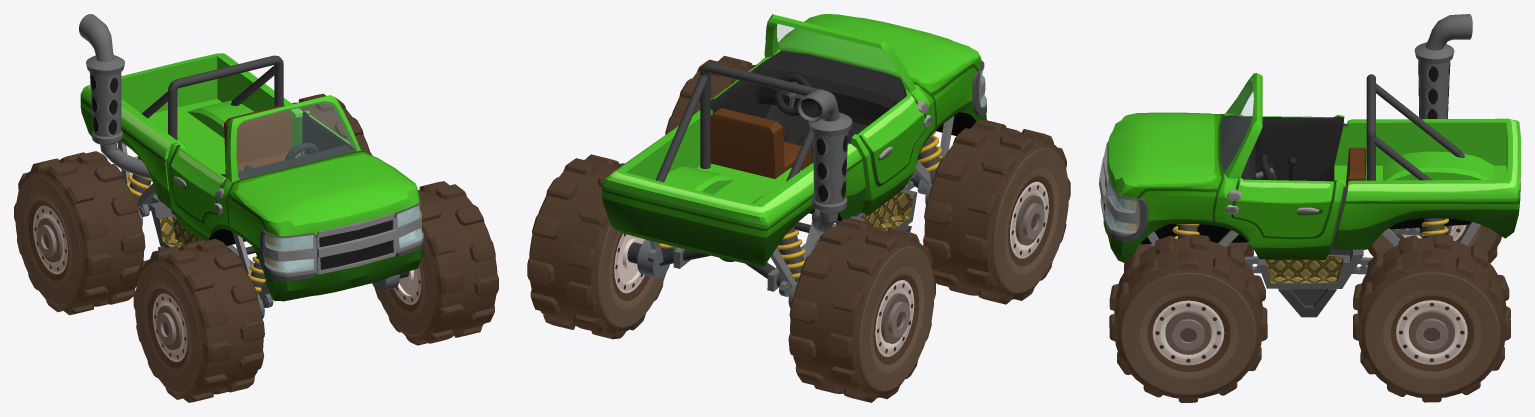
Rendered from car.gltf.
3 renders of one model, left to right at view 1: azimuth 30°, elevation 25°; view 2: azimuth 150°, elevation 25°; view 3: azimuth 270°, elevation 25°, orthographic. The views are drawn at different scales.
Visible parts, largest first — view 1: HCR2_MT_Body_20, FrontRightWheel, BackRightWheel, FrontLeftWheel, HCR2_MT_Window_0, HCR2_MT_Exhaust_10, HCR2_MT_Lights_9, HCR2_MT_Grl_7, HCR2_MT_Seat_5, HCR2_MT_Cage_13, HCR2_MT_Interior_6, HCR2_MT_Lights_Cover_8 (+4 smaller); view 2: HCR2_MT_Body_20, BackRightWheel, FrontRightWheel, BackLeftWheel, HCR2_MT_Interior_6, HCR2_MT_Exhaust_10, HCR2_MT_Seat_5, HCR2_MT_Cage_13, HCR2_MT_Susp_Rear_1, HCR2_MT_Window_0, HCR2_MT_Details_11, FrontLeftWheel (+5 smaller); view 3: HCR2_MT_Body_20, FrontLeftWheel, BackLeftWheel, HCR2_MT_Interior_6, HCR2_MT_Details_11, HCR2_MT_Exhaust_10, HCR2_MT_Cage_13, HCR2_MT_Lights_9, HCR2_MT_Window_0, BackRightWheel, HCR2_MT_Chassis_12, HCR2_MT_Susp_Rear_1 (+5 smaller).
Boxes of the visible parts, bbox=[...] form: HCR2_MT_Body_20: bbox=[80, 53, 423, 301]; FrontRightWheel: bbox=[133, 238, 264, 402]; BackRightWheel: bbox=[14, 151, 145, 315]; FrontLeftWheel: bbox=[374, 181, 498, 345]; HCR2_MT_Window_0: bbox=[236, 101, 356, 179]; HCR2_MT_Exhaust_10: bbox=[79, 14, 151, 178]; HCR2_MT_Lights_9: bbox=[260, 195, 423, 281]; HCR2_MT_Grl_7: bbox=[316, 213, 396, 274]; HCR2_MT_Seat_5: bbox=[224, 106, 296, 171]; HCR2_MT_Cage_13: bbox=[142, 55, 283, 140]; HCR2_MT_Interior_6: bbox=[221, 111, 356, 179]; HCR2_MT_Lights_Cover_8: bbox=[264, 205, 422, 272]; HCR2_MT_Body_20: bbox=[602, 14, 986, 266]; BackRightWheel: bbox=[788, 218, 935, 402]; FrontRightWheel: bbox=[923, 120, 1070, 304]; BackLeftWheel: bbox=[527, 154, 666, 339]; HCR2_MT_Interior_6: bbox=[710, 51, 906, 163]; HCR2_MT_Exhaust_10: bbox=[797, 89, 852, 232]; HCR2_MT_Seat_5: bbox=[710, 108, 811, 178]; HCR2_MT_Cage_13: bbox=[656, 63, 818, 182]; HCR2_MT_Susp_Rear_1: bbox=[627, 209, 818, 308]; HCR2_MT_Window_0: bbox=[777, 24, 899, 77]; HCR2_MT_Details_11: bbox=[794, 101, 932, 232]; FrontLeftWheel: bbox=[665, 55, 755, 134]; HCR2_MT_Body_20: bbox=[1103, 73, 1520, 263]; FrontLeftWheel: bbox=[1109, 234, 1267, 402]; BackLeftWheel: bbox=[1353, 233, 1510, 402]; HCR2_MT_Interior_6: bbox=[1220, 115, 1344, 181]; HCR2_MT_Details_11: bbox=[1225, 189, 1363, 317]; HCR2_MT_Exhaust_10: bbox=[1414, 14, 1472, 119]; HCR2_MT_Cage_13: bbox=[1366, 74, 1464, 180]; HCR2_MT_Lights_9: bbox=[1105, 140, 1148, 241]; HCR2_MT_Window_0: bbox=[1221, 79, 1253, 172]; BackRightWheel: bbox=[1368, 224, 1501, 263]; HCR2_MT_Chassis_12: bbox=[1140, 218, 1471, 244]; HCR2_MT_Susp_Rear_1: bbox=[1382, 218, 1480, 246].
Size of the model in its own units: 3.59 by 3.04 by 4.26.
Materials: 4 (2 with a texture image).
